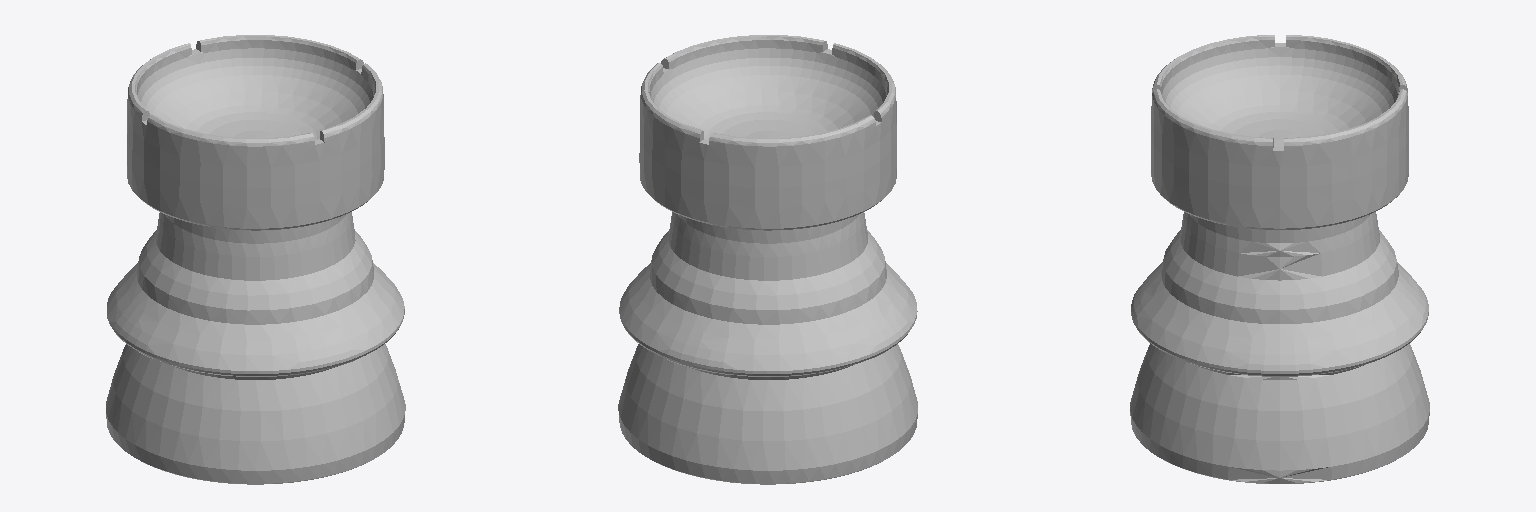
The model's file is rook.obj.
3 views of the same model, side by side, from view 1: azimuth 30°, elevation 25°; view 2: azimuth 150°, elevation 25°; view 3: azimuth 270°, elevation 25° (orthographic).
Parts seen in each view (by area): view 1: white_rook; view 2: white_rook; view 3: white_rook.
Part boxes in pixels (left/top/right/bottom): white_rook: left=106, top=35, right=405, bottom=484; white_rook: left=618, top=35, right=917, bottom=484; white_rook: left=1130, top=35, right=1429, bottom=483.
Bounding box in the file's own units: 3.78 × 4.68 × 3.76.